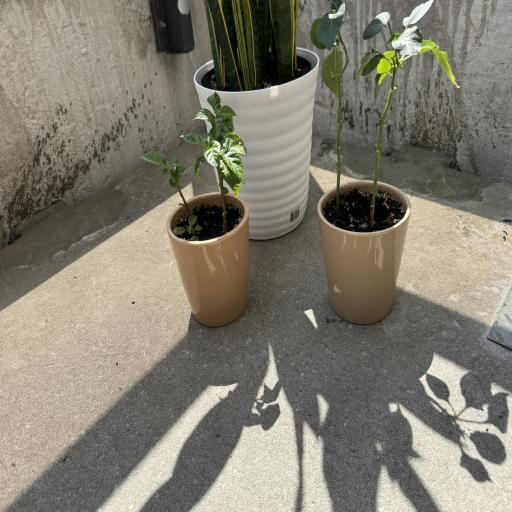Plant Pot: (194, 48, 318, 235), (319, 179, 411, 326), (167, 190, 250, 325)
